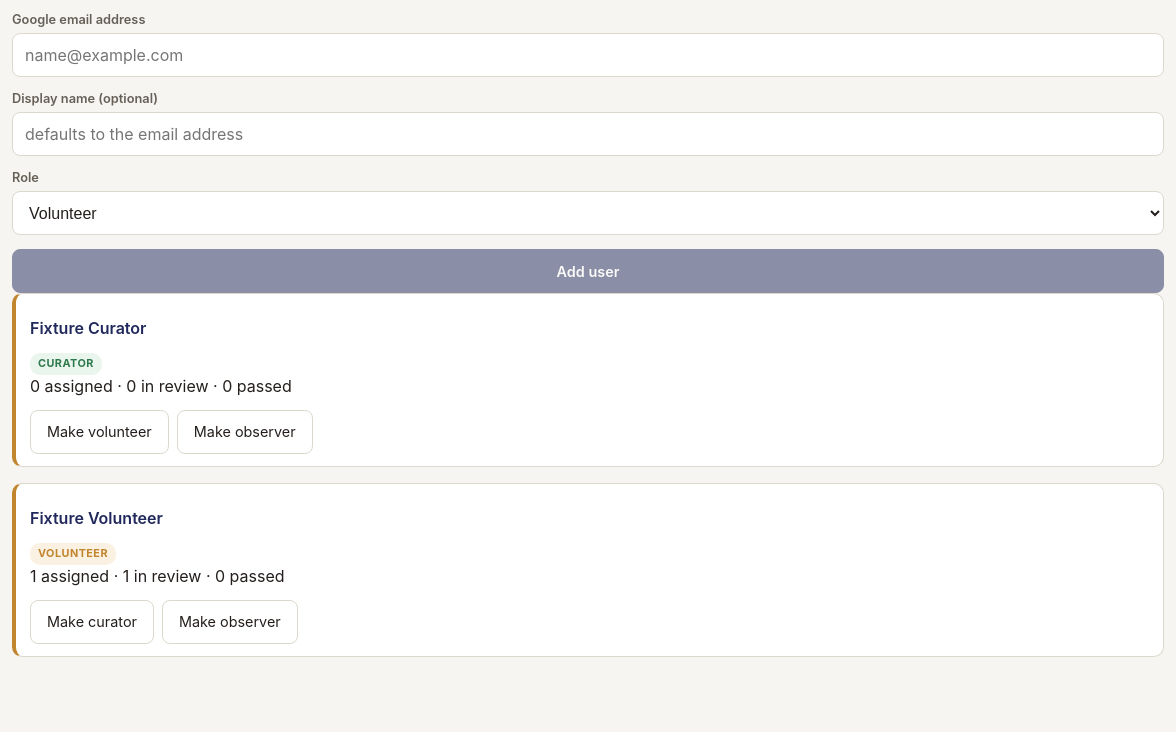
Test: AdminUsers › role management › promotes a volunteer via PATCH and says when it takes effect
What coordinates should you click on to do the following:
click the button with aria-label "Make Fixture Volunteer a curator"
I would click on:
 (92, 622)
Its box is [30,600,154,644].
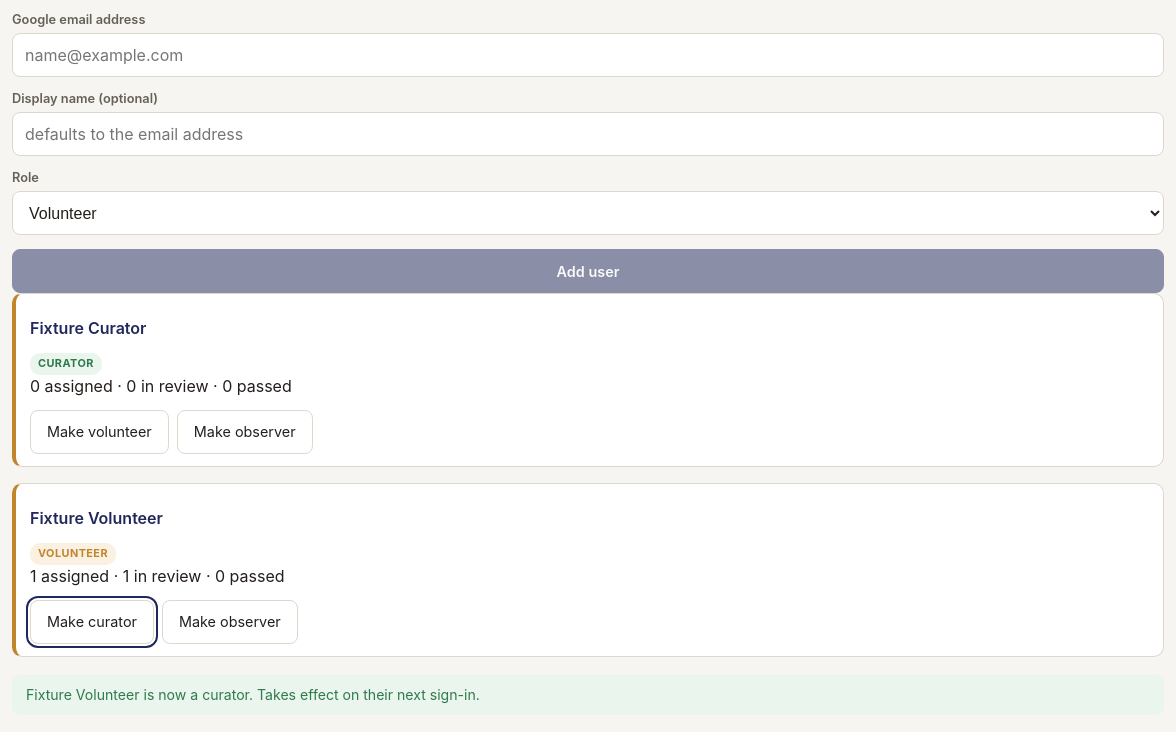
Expected: the message shows "is now a curator", [26,686,480,703]
Expected: the message shows "next sign-in", [26,686,480,703]
